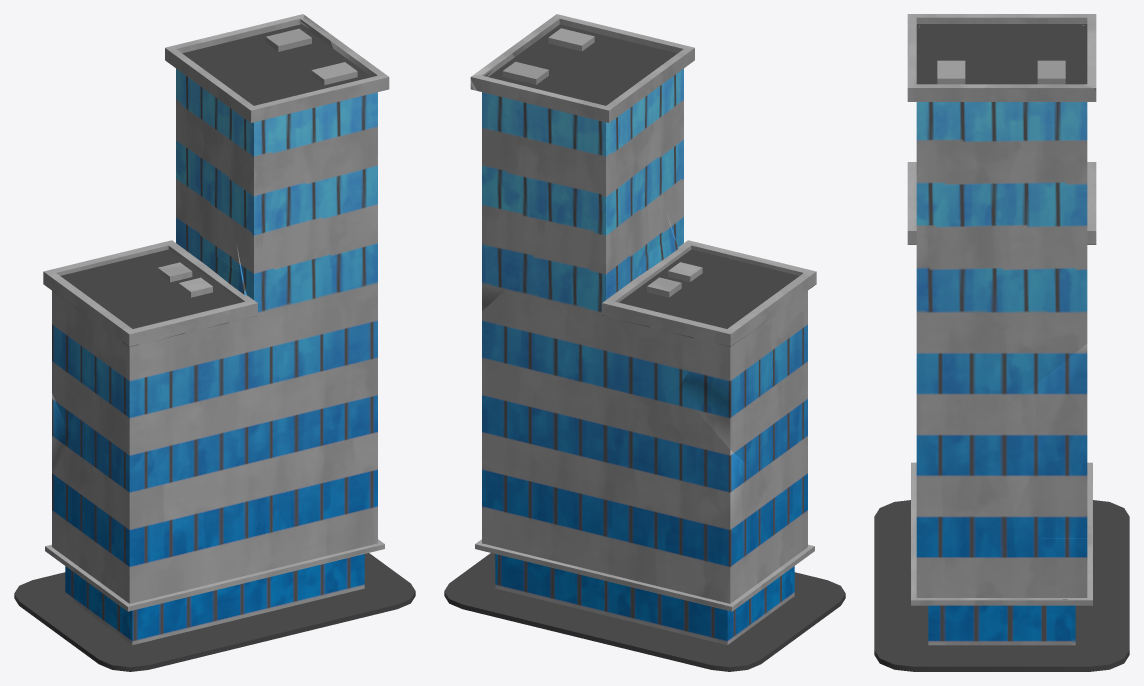
Rendered from Building2Parts.fbx.
The picture shows the model from 3 angles, left to right: view 1: azimuth 30°, elevation 25°; view 2: azimuth 150°, elevation 25°; view 3: azimuth 270°, elevation 25°; orthographic projection. The views are drawn at different scales.
Visible parts, largest first — view 1: Building2.024, Building2.018, Building2.014, Building2.005, Building2.002, Building2.011, Building2.001, Building2.020, Building2.012, Building2.026, Building2.010, Building2.019 (+11 smaller); view 2: Building2.001, Building2.015, Building2.016, Building2.023, Building2.002, Building2.010, Building2.021, Building2.005, Building2.025, Building2.013, Building2.024, Building2.022 (+10 smaller); view 3: Building2.013, Building2.014, Building2.002, Building2.015, Building2.012, Building2.017, Building2.007, Building2.005, Building2.006, Building2.016, Building2.018, Building2.008 (+4 smaller).
Boxes of the visible parts, <box> form: Building2.024: <box>71,360,253,573</box>; Building2.018: <box>248,299,384,616</box>; Building2.014: <box>280,282,377,515</box>; Building2.005: <box>199,45,378,177</box>; Building2.002: <box>14,553,415,671</box>; Building2.011: <box>236,140,324,311</box>; Building2.001: <box>79,198,257,332</box>; Building2.020: <box>71,494,183,645</box>; Building2.012: <box>309,127,377,299</box>; Building2.026: <box>86,298,194,405</box>; Building2.010: <box>176,88,236,241</box>; Building2.019: <box>149,524,256,640</box>; Building2.001: <box>532,211,762,399</box>; Building2.015: <box>482,288,627,488</box>; Building2.016: <box>475,449,683,634</box>; Building2.023: <box>601,389,749,536</box>; Building2.002: <box>444,553,845,671</box>; Building2.010: <box>532,104,666,254</box>; Building2.021: <box>660,520,777,645</box>; Building2.005: <box>518,16,694,114</box>; Building2.025: <box>678,333,796,466</box>; Building2.013: <box>482,159,557,310</box>; Building2.024: <box>749,349,807,522</box>; Building2.022: <box>603,454,662,593</box>; Building2.013: <box>955,176,1087,409</box>; Building2.014: <box>916,311,1003,567</box>; Building2.002: <box>874,500,1129,671</box>; Building2.015: <box>1004,344,1087,538</box>; Building2.012: <box>916,140,1001,311</box>; Building2.017: <box>955,543,1073,645</box>; Building2.007: <box>968,81,1096,176</box>; Building2.005: <box>907,14,1048,84</box>; Building2.006: <box>907,82,1021,140</box>; Building2.016: <box>1000,531,1092,645</box>; Building2.018: <box>911,531,955,645</box>; Building2.008: <box>1048,32,1096,90</box>.
Bounding box in the file's own units: 9.92 × 15.79 × 6.4.
